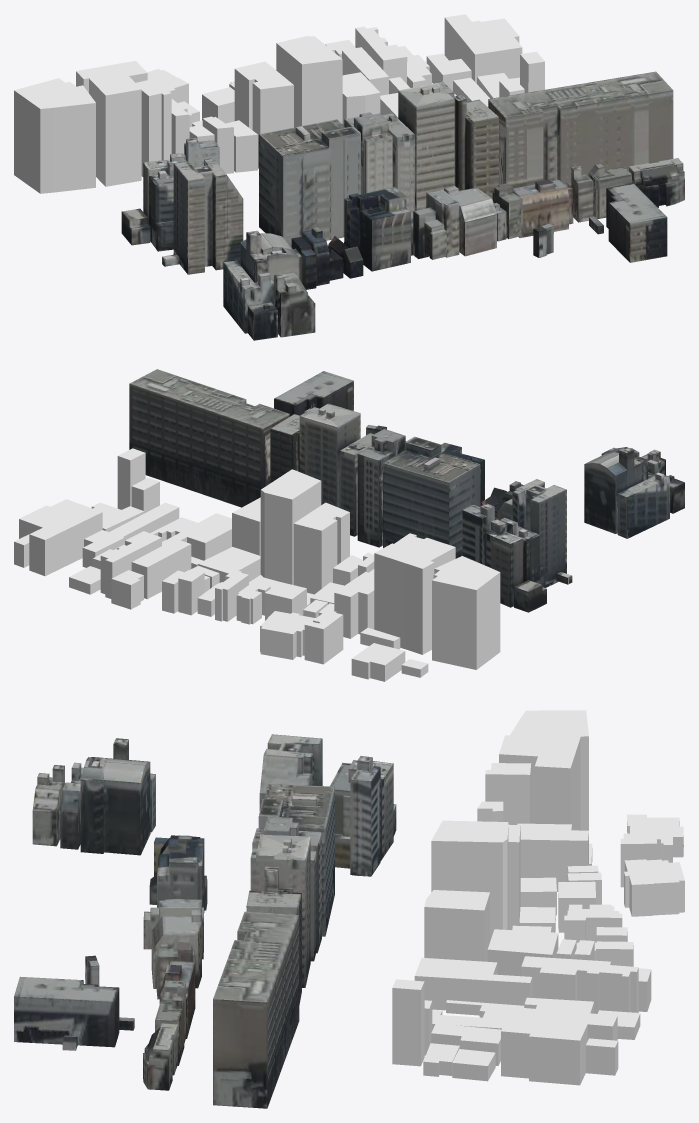
Rendered from building_4_4.glb.
The picture shows the model from 3 angles, top to bottom: view 1: azimuth 30°, elevation 25°; view 2: azimuth 150°, elevation 25°; view 3: azimuth 270°, elevation 25°; orthographic projection. The views are drawn at different scales.
Bounding box in the file's own units: 195 × 44.94 × 193.
2 materials, 1 textured.
